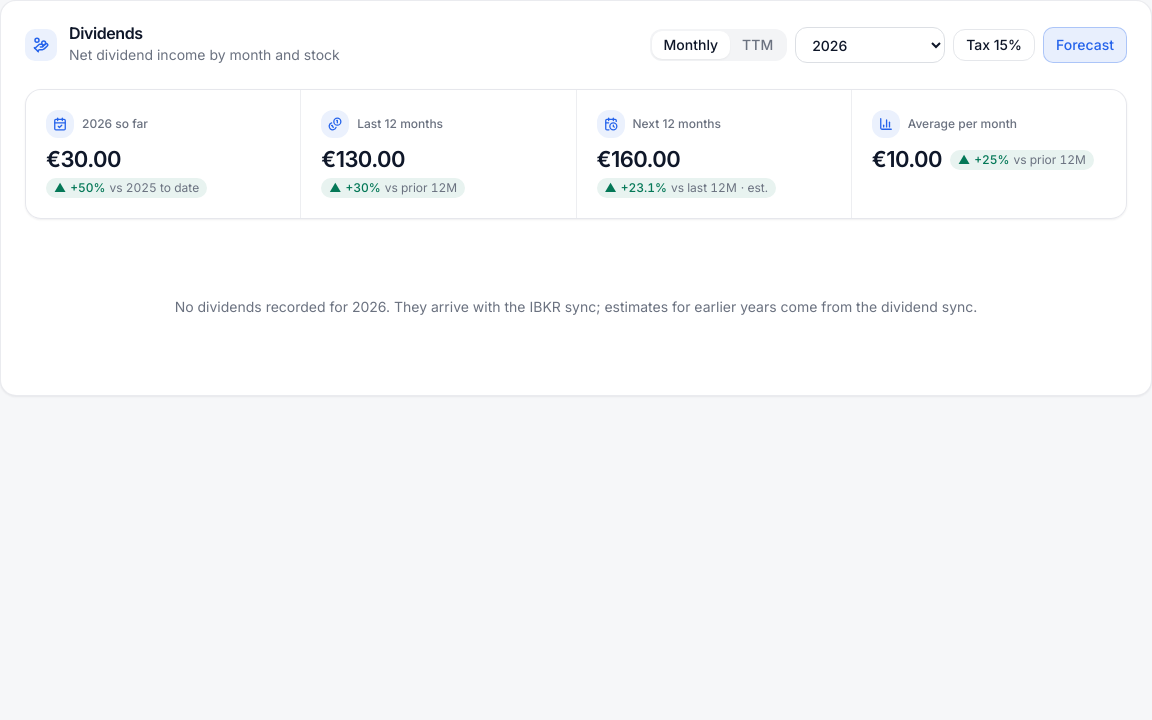
Test: Dividend chart controls › shows unavailable TTM rather than zero for short or future history
Expected: the text "No dividends recorded" is shown, [175,298,330,314]
Click the button "TTM": {"x": 758, "y": 45} [730,31,785,59]
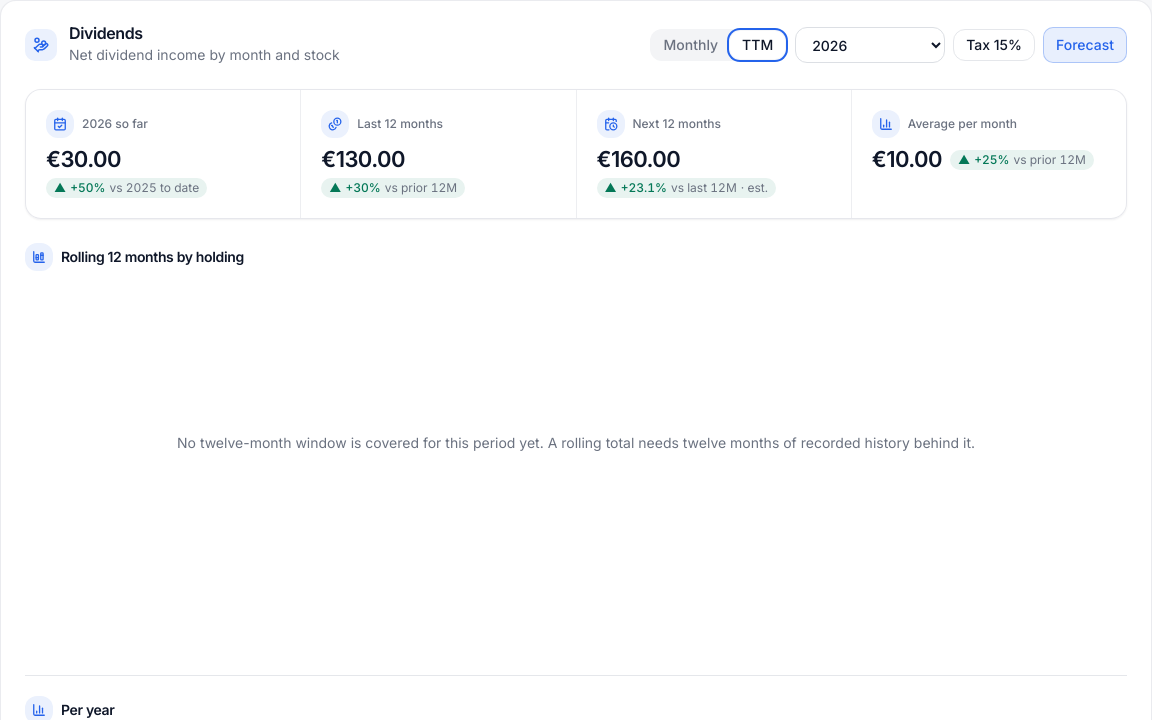
Now the text "No twelve-month window is covered" is shown, box [177,434,975,450]
